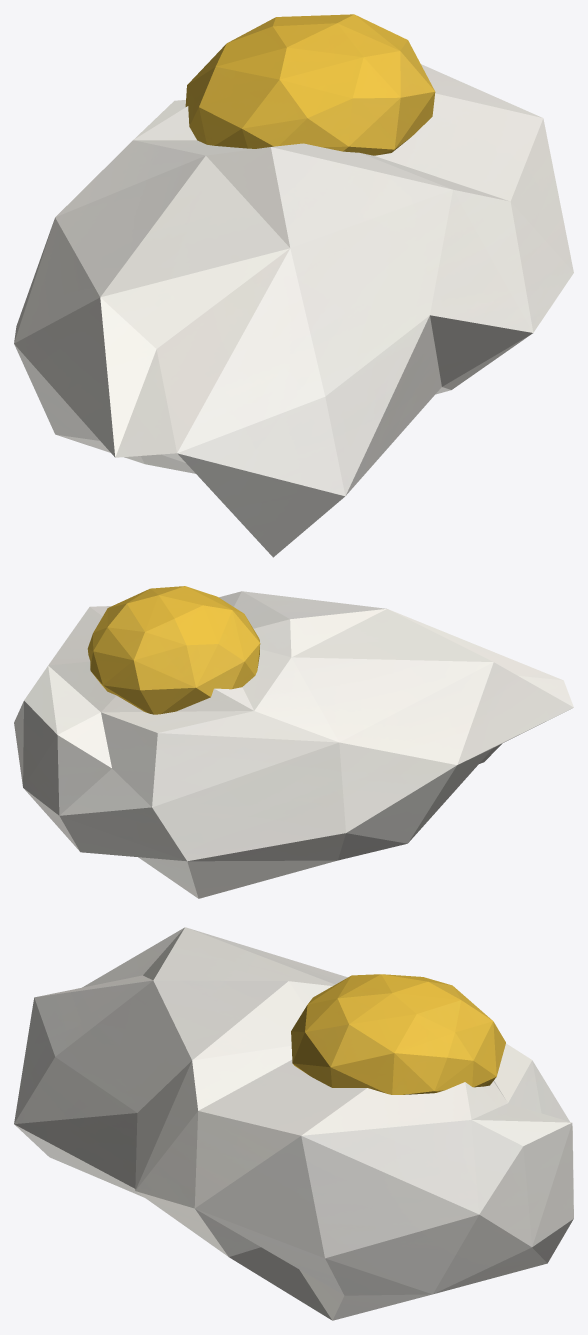
Rendered from CrackingEggs-4.obj.
3 views of the same model, one above another, from view 1: azimuth 30°, elevation 25°; view 2: azimuth 150°, elevation 25°; view 3: azimuth 270°, elevation 25° (orthographic). The views are drawn at different scales.
Parts seen in each view (by area): view 1: Sphere.009; view 2: Sphere.009; view 3: Sphere.009.
Part boxes in pixels (x1,y1,x2,y2): Sphere.009: [14, 14, 573, 557]; Sphere.009: [14, 586, 573, 898]; Sphere.009: [14, 927, 573, 1320].
Bounding box in the file's own units: 0.0803 × 0.051 × 0.0786.
